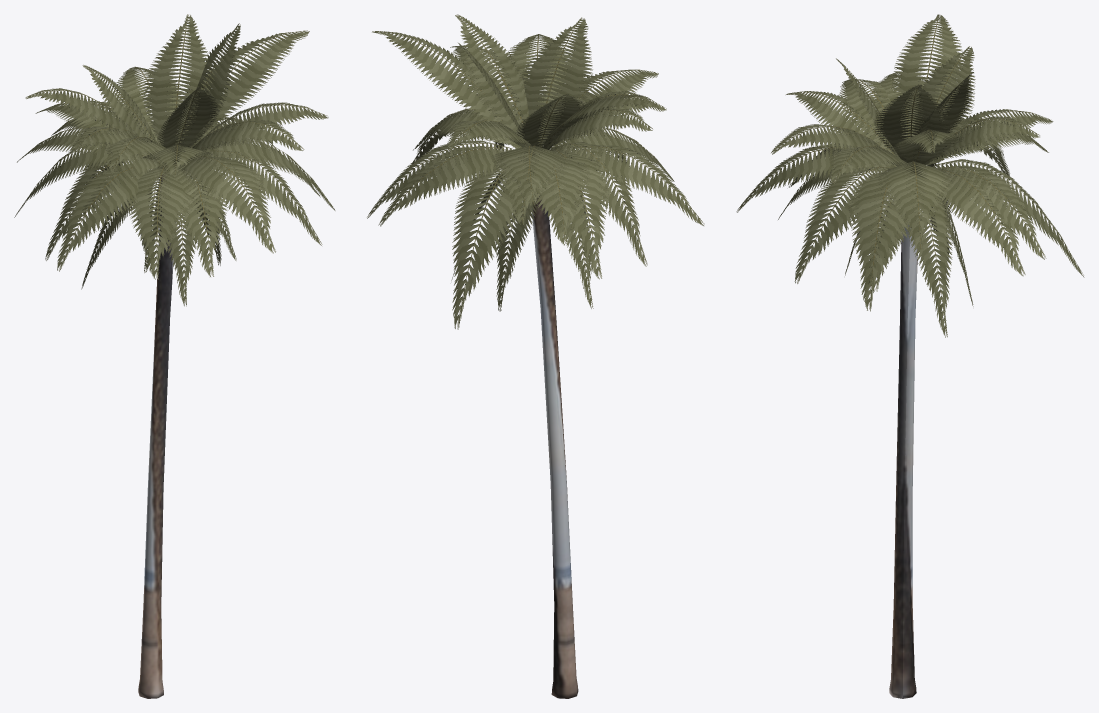
The model's file is palm-distant.glb.
The picture shows the model from 3 angles, left to right: view 1: azimuth 30°, elevation 25°; view 2: azimuth 150°, elevation 25°; view 3: azimuth 270°, elevation 25°; orthographic projection. The views are drawn at different scales.
Parts seen in each view (by area): view 1: Frame; view 2: Frame; view 3: Frame.
Part boxes in pixels (bbox=[...]): Frame: bbox=[14, 14, 335, 698]; Frame: bbox=[367, 14, 704, 698]; Frame: bbox=[736, 14, 1084, 698].
Size of the model in its own units: 6.24 by 13.21 by 6.37.
2 materials, 2 textured.
